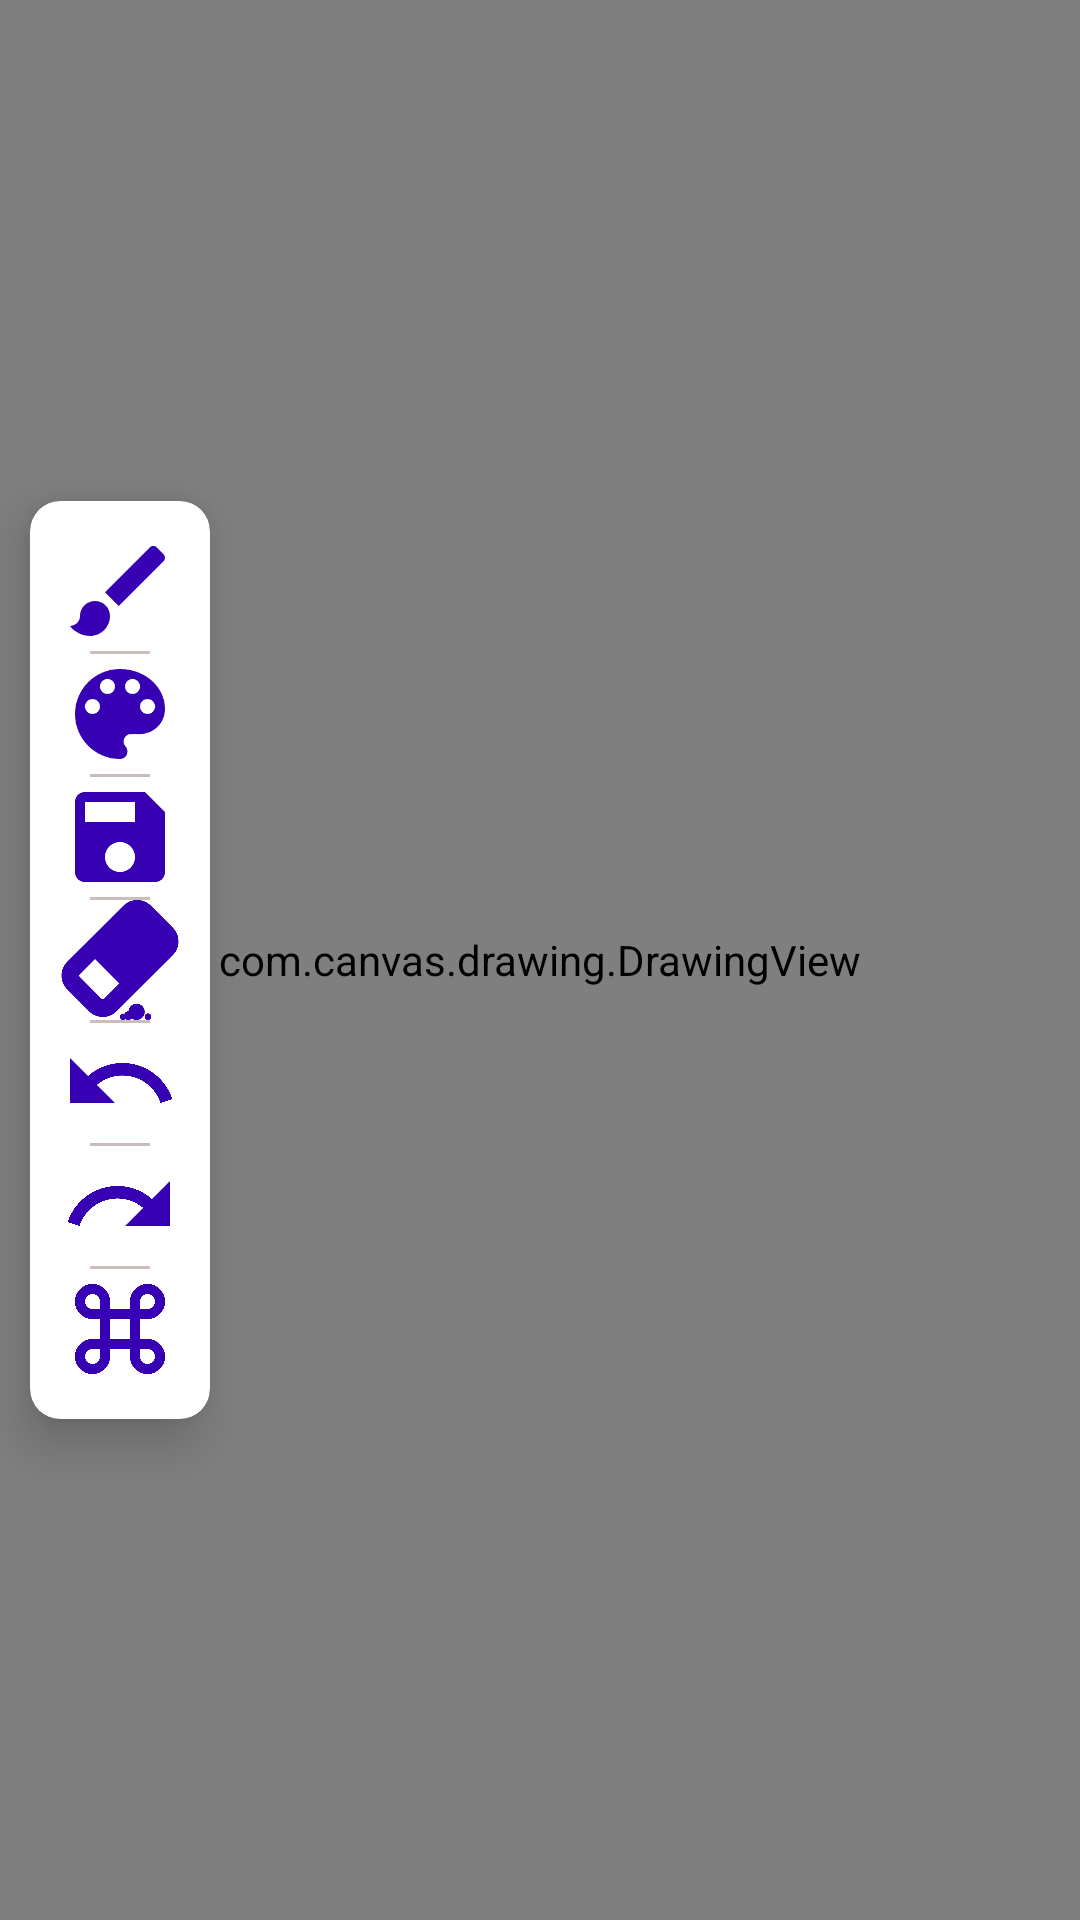

Point at icon controls on the screen. Image size 1080w x 1920h, points as (x,y).
brush: (117,591)
eraser: (120,960)
keyboard command key: (120,1329)
redo: (119,1203)
save: (120,837)
undo: (121,1080)
